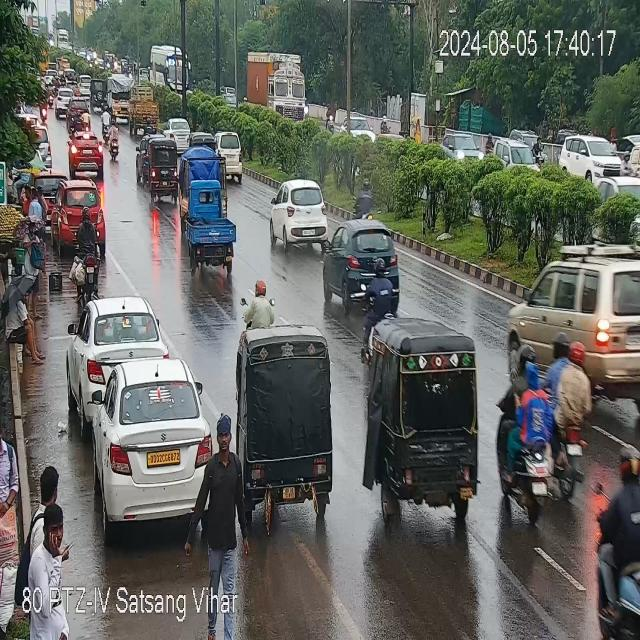2-wheelers: (500, 356, 578, 512), (544, 332, 592, 474), (72, 196, 101, 300), (241, 283, 280, 331), (366, 252, 394, 318), (104, 122, 122, 160), (74, 106, 92, 132), (41, 86, 54, 118), (53, 72, 78, 86), (535, 136, 546, 161), (379, 111, 390, 132), (102, 103, 108, 141), (327, 106, 334, 134), (486, 134, 494, 158)
auto: (372, 332, 481, 510), (235, 335, 335, 519), (182, 205, 238, 263), (144, 144, 182, 201), (189, 130, 214, 154)
bus: (149, 46, 193, 90)
car: (80, 361, 218, 529), (506, 255, 638, 388), (73, 298, 165, 397), (323, 225, 400, 306), (558, 134, 638, 186), (269, 183, 331, 246), (56, 187, 103, 240), (70, 133, 106, 175), (497, 135, 534, 170), (222, 132, 245, 183), (442, 132, 482, 158), (40, 164, 66, 196), (35, 123, 52, 166), (165, 115, 187, 142), (136, 134, 145, 192), (56, 88, 68, 120), (79, 74, 90, 96)
pedestrian: (583, 429, 640, 640), (200, 414, 245, 563), (28, 471, 72, 597), (0, 417, 22, 640), (8, 286, 44, 361), (24, 216, 41, 304), (127, 88, 159, 130), (39, 462, 65, 504), (30, 188, 50, 230), (19, 175, 33, 218), (414, 115, 422, 147)
truck: (248, 54, 304, 124), (178, 150, 226, 220), (107, 76, 131, 121)
